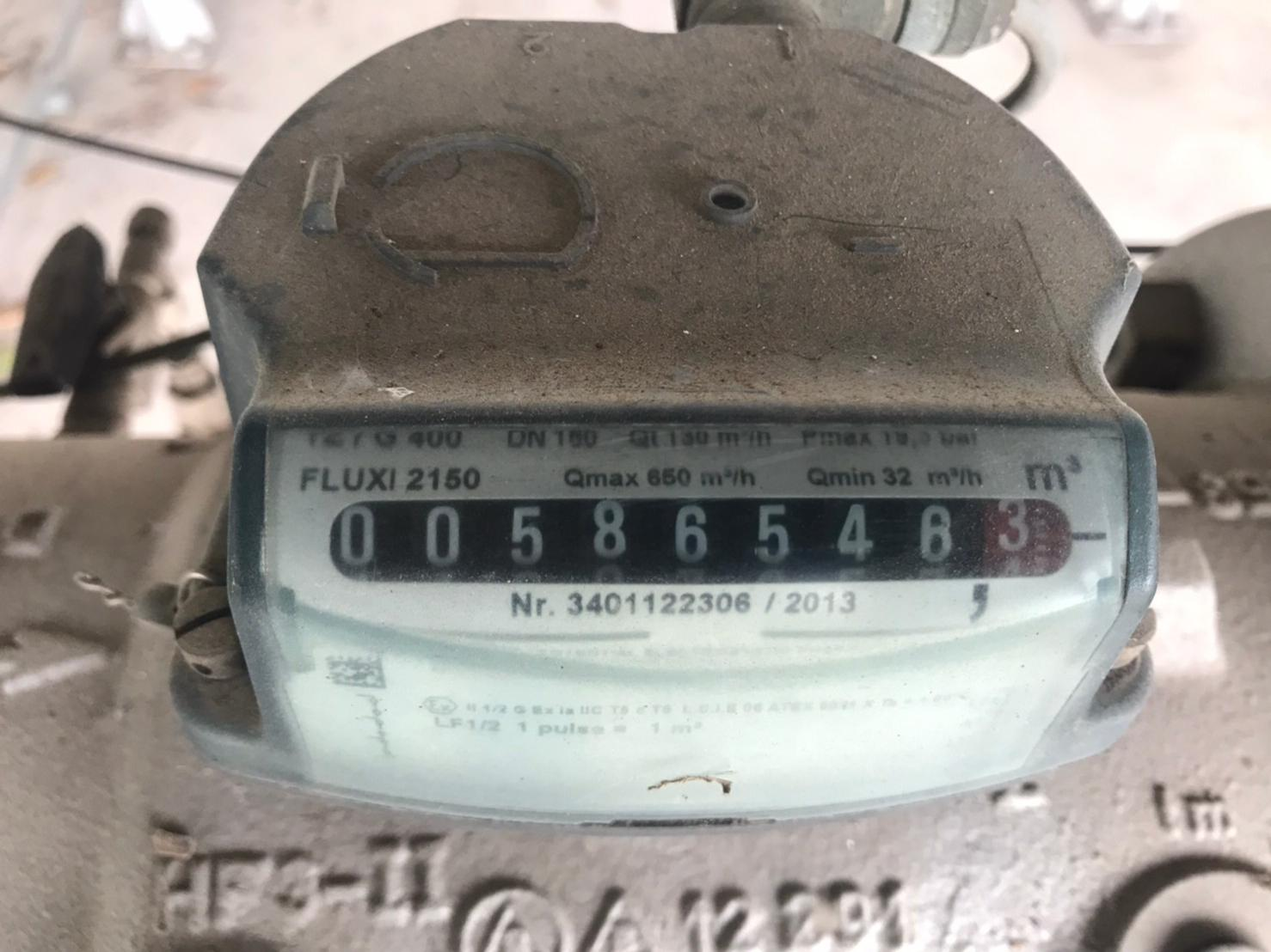analog_dial: (324, 493, 1106, 597)
